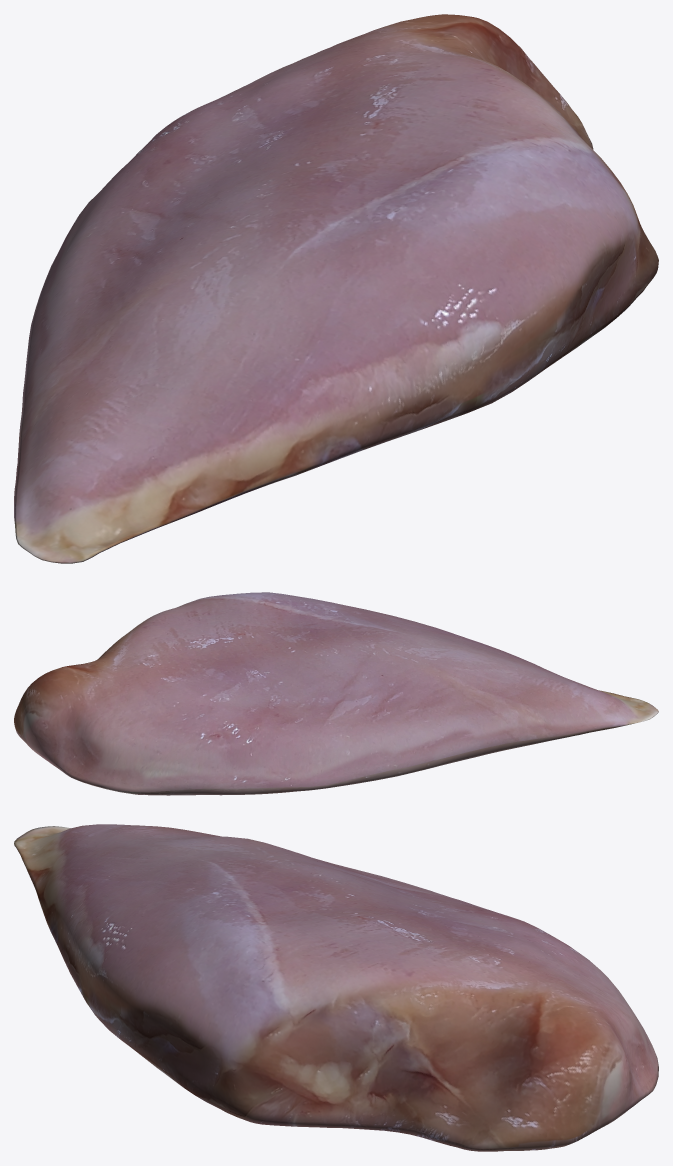
The model's file is chicken.glb.
3 views of the same model, one above another, from view 1: azimuth 30°, elevation 25°; view 2: azimuth 150°, elevation 25°; view 3: azimuth 270°, elevation 25° (orthographic). The views are drawn at different scales.
Parts seen in each view (by area): view 1: Plane.001_0; view 2: Plane.001_0; view 3: Plane.001_0.
Boxes of the visible parts, x1,y1,x2,y2 form: Plane.001_0: (14, 14, 658, 563); Plane.001_0: (14, 592, 658, 795); Plane.001_0: (14, 824, 658, 1151).
Bounding box in the file's own units: 1.31 × 0.3024 × 1.07.
Materials: 1 (1 with a texture image).
